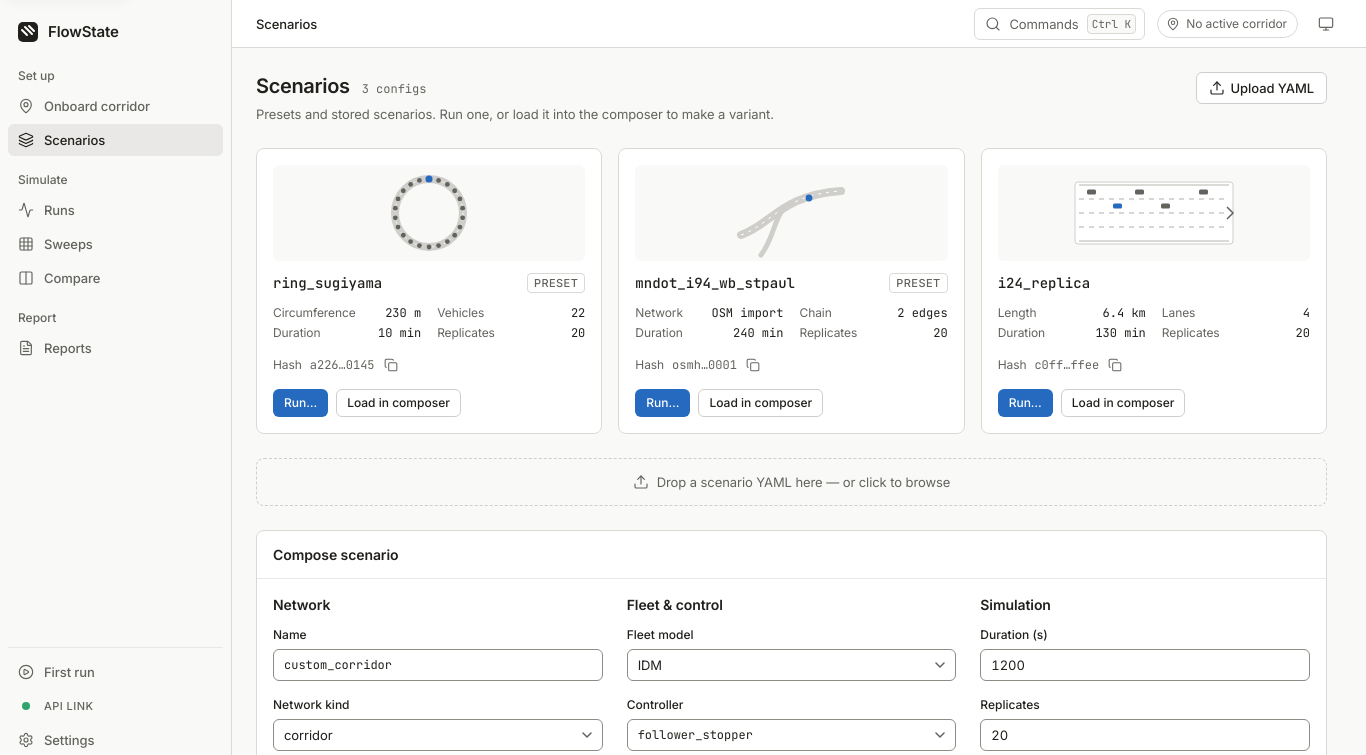
Scenario: accessibility audit: live API states › Scenarios: the OSM composer and the launch dialog
What coordinates should you click on to do the following:
click the button "Load in composer" below "osmh…0001"
I would click on:
 (761, 403)
Its box is 698,389 -> 823,417.
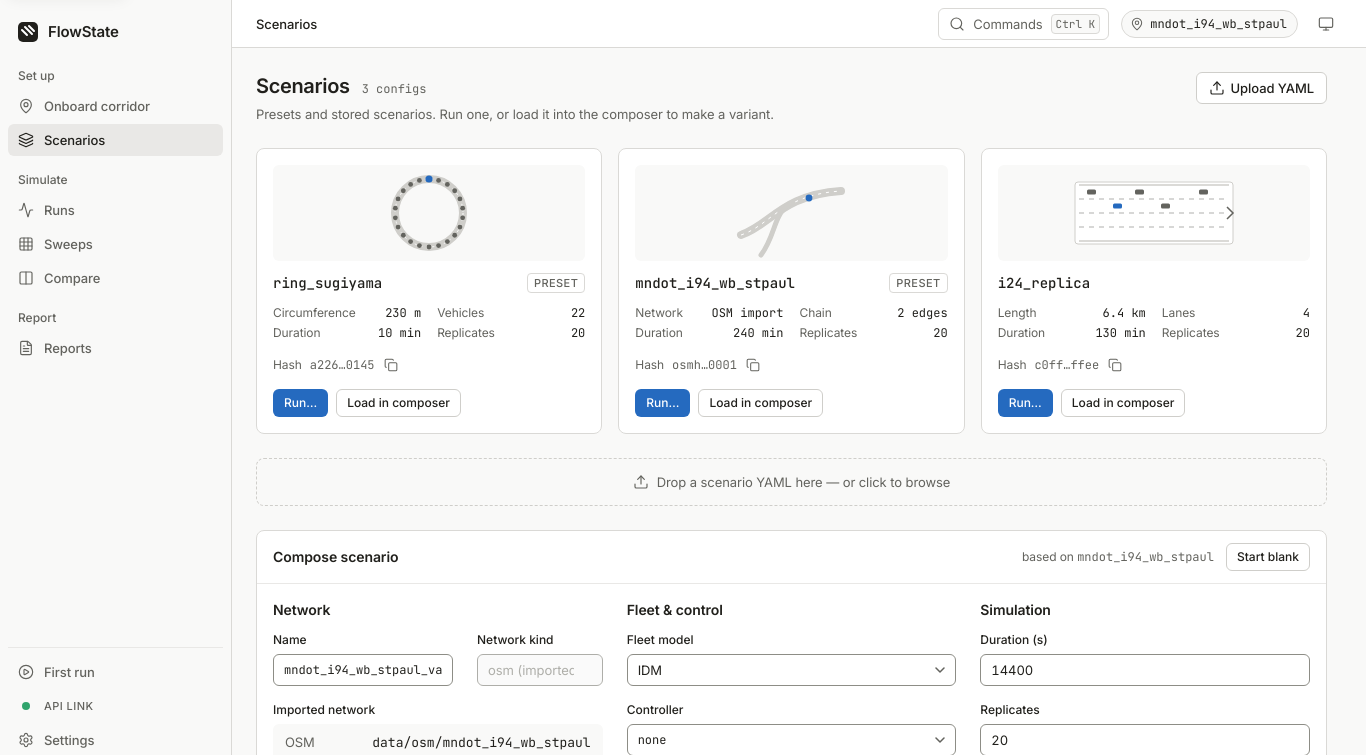
What coordinates should you click on to do the following:
click the button "Run…" below "a226…0145"
I would click on:
 (301, 403)
Its box is 273,389 -> 328,417.
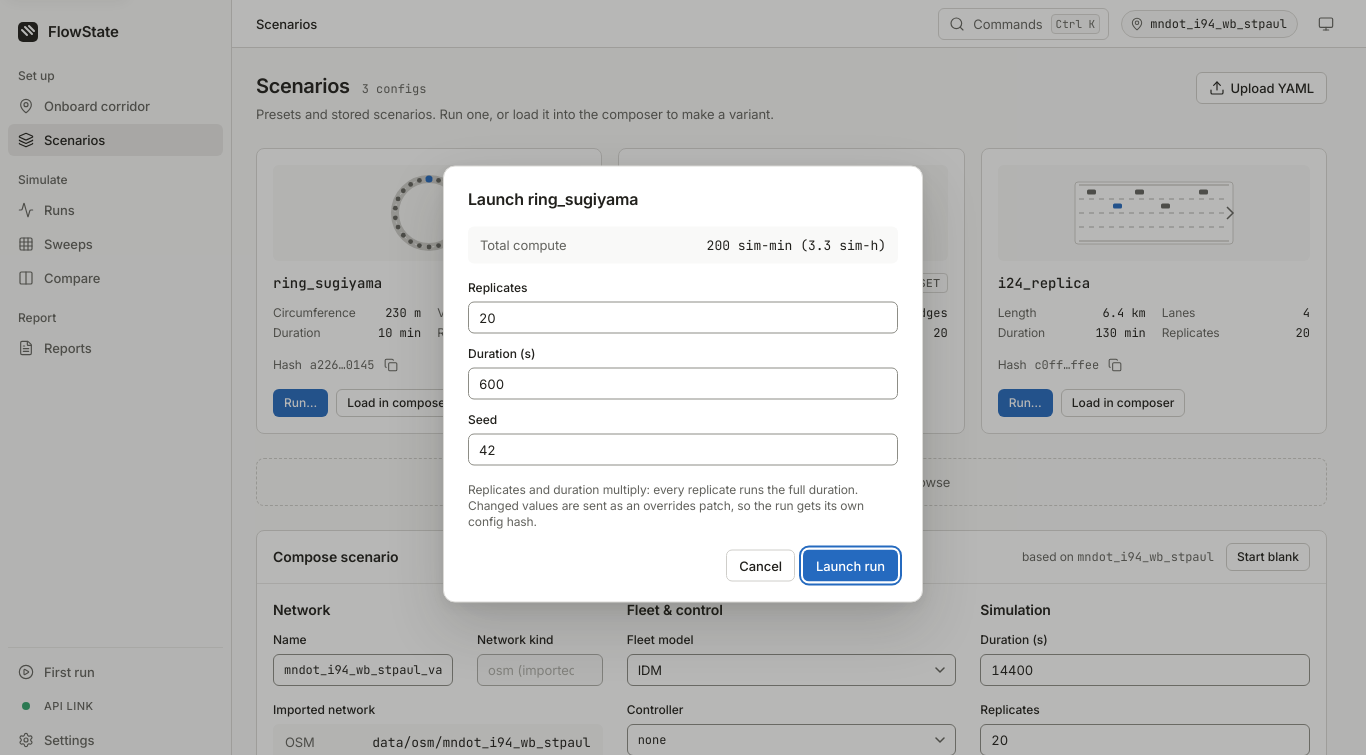
Expected: the dialog "Launch ring_sugiyama" is shown, 443,166 -> 923,602
